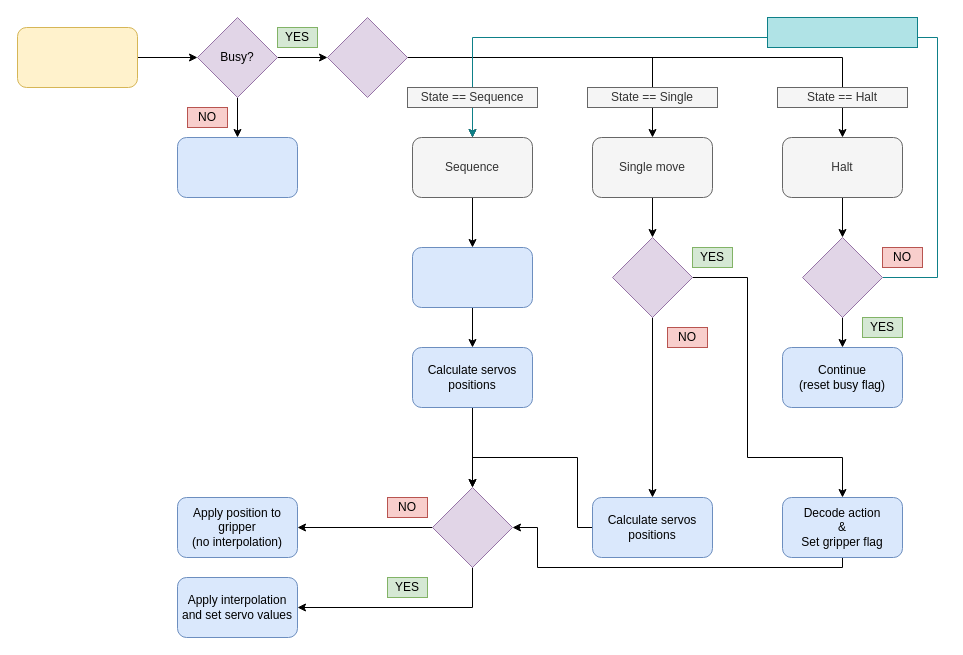
This 963x655 diagram has some shape labels left out. Each missing label, with the centre of its shape:
Choose sleep sequence State = Sequence: the point at 842,32
Gripper flag ?: the point at 472,527
gripper?: the point at 652,277
In sleep position or not ?: the point at 842,277
Parse new command: the point at 237,167
Parse sequence step: the point at 472,277
Previous state ?: the point at 367,57
Start: the point at 77,57
